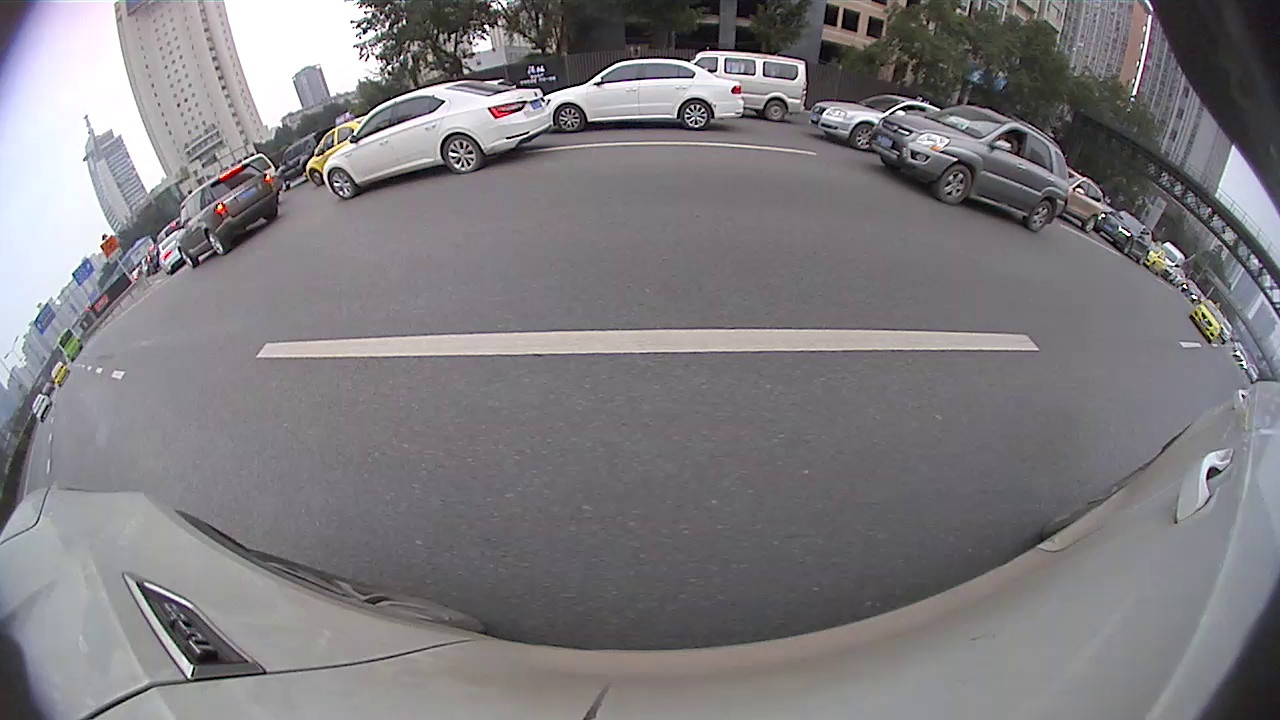car: (321, 79, 553, 201), (868, 104, 1069, 234), (540, 58, 746, 134), (174, 162, 278, 270), (687, 50, 807, 122), (808, 95, 953, 152), (305, 115, 402, 188), (1058, 168, 1105, 234), (1101, 209, 1153, 267), (1187, 294, 1224, 344)
front: (940, 168, 970, 204), (327, 172, 357, 199), (555, 105, 585, 132), (850, 124, 873, 150), (181, 249, 198, 266), (311, 172, 322, 186)
rear: (443, 134, 482, 174), (1024, 203, 1056, 232), (679, 102, 711, 130), (764, 101, 785, 122), (207, 234, 227, 253), (1084, 216, 1097, 231)
